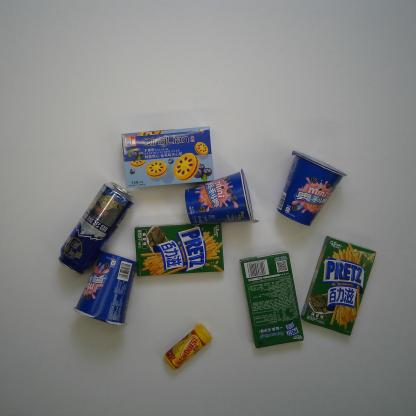Alcohol: (57, 181, 136, 276)
Candy: (163, 323, 213, 372)
Dessert: (300, 235, 376, 337), (238, 249, 304, 349), (121, 126, 215, 190), (276, 149, 347, 226), (72, 250, 137, 328), (134, 222, 225, 277), (184, 167, 261, 226)
